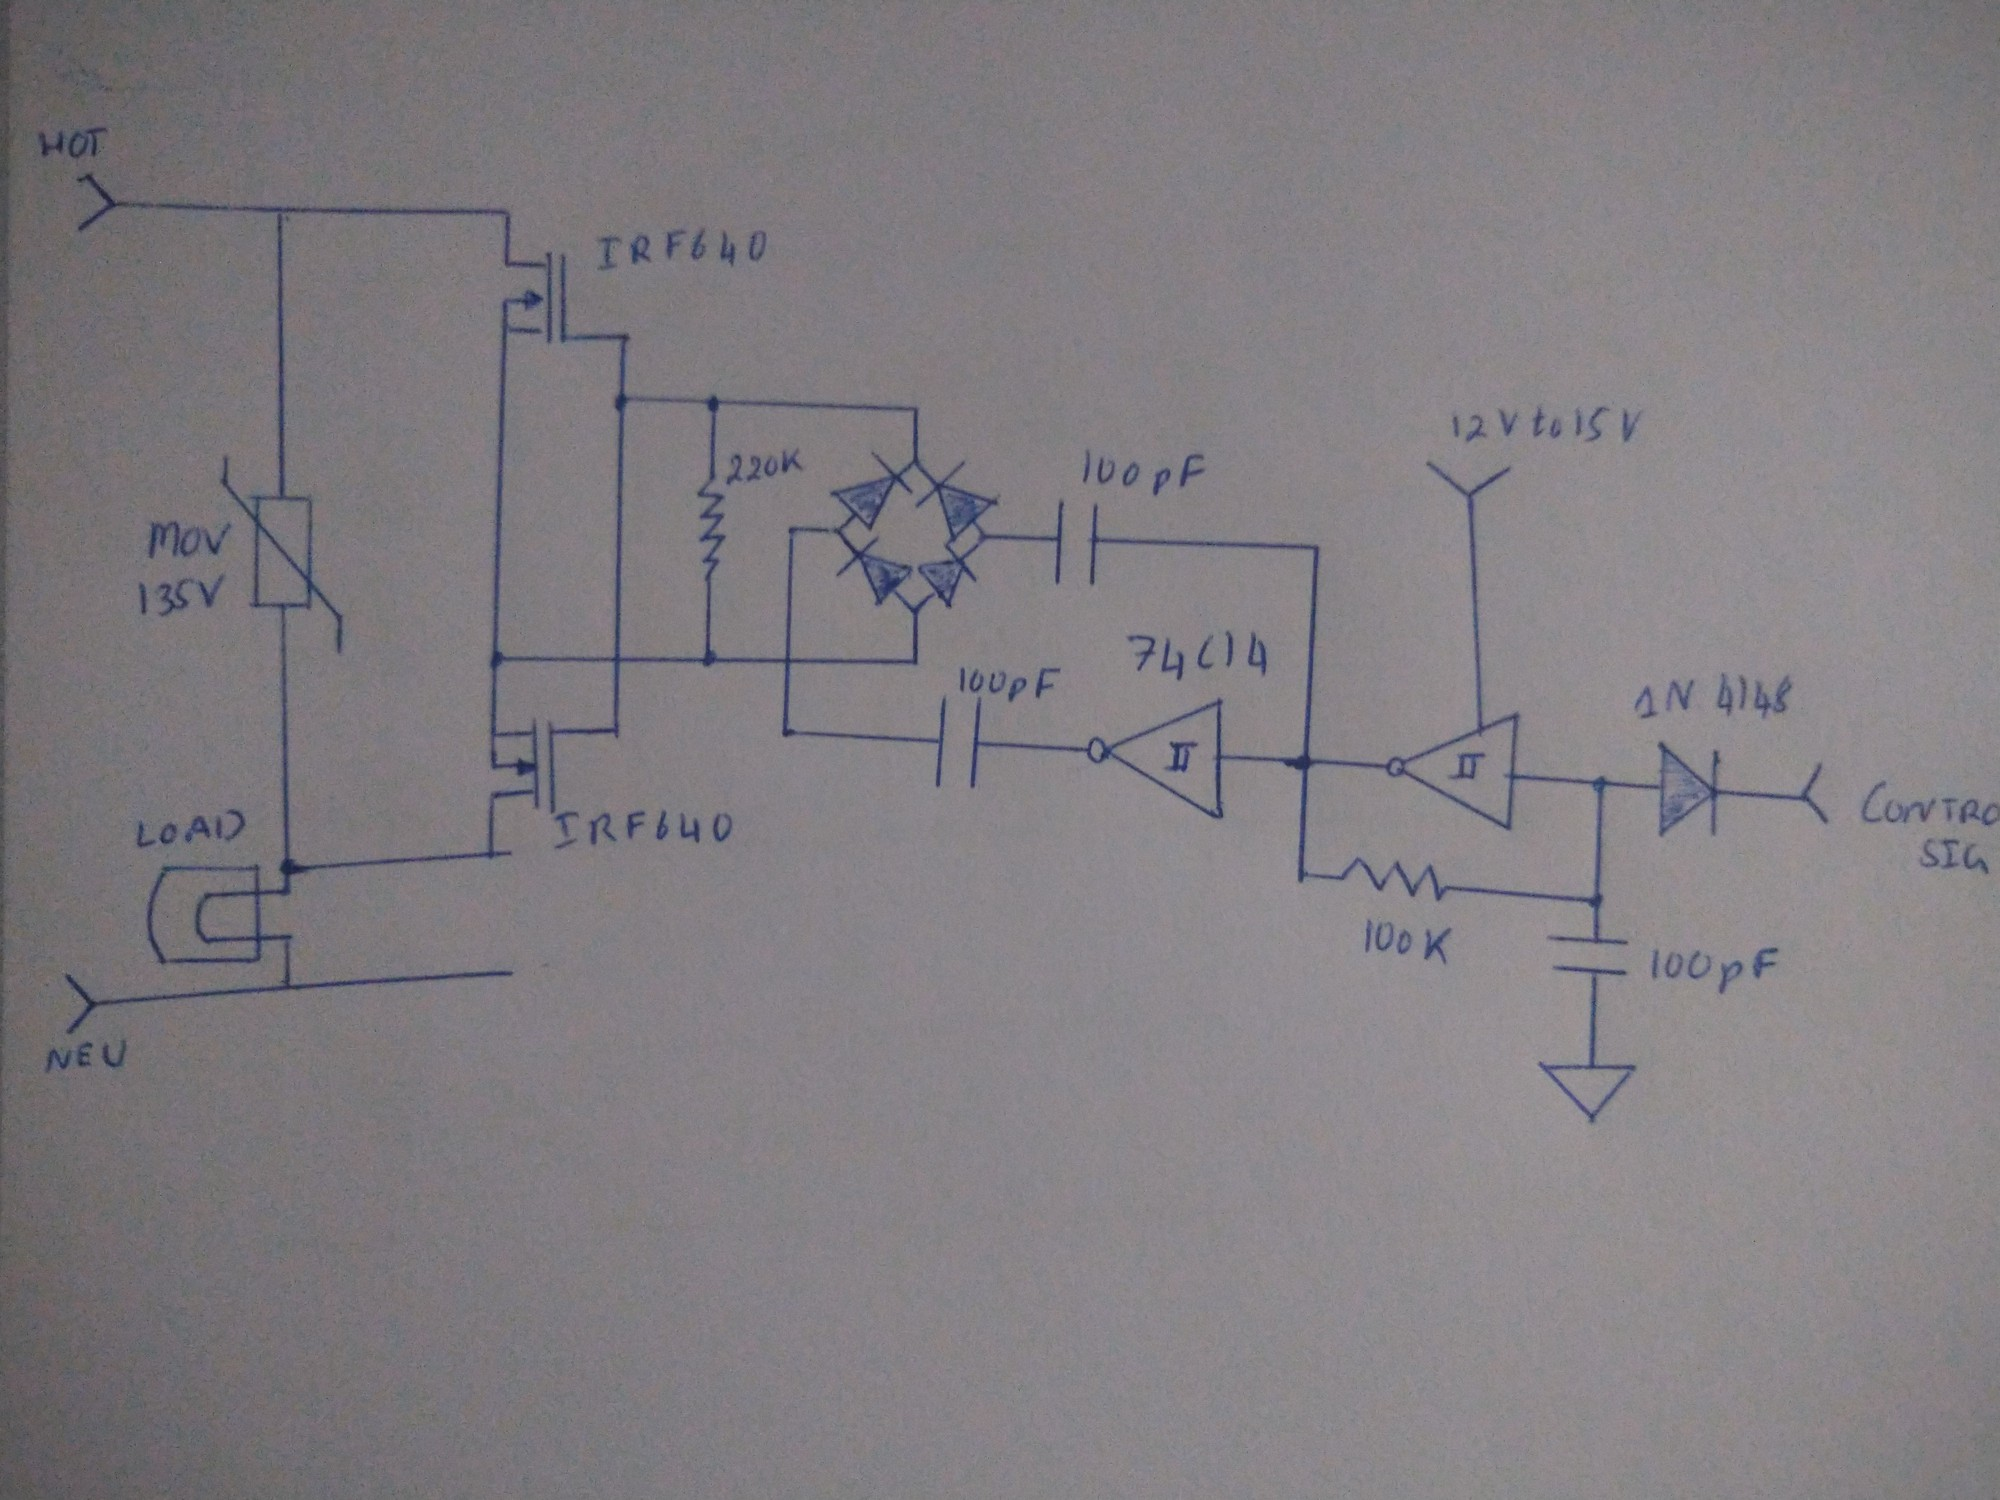capacitor.unpolarized: (921, 693, 994, 793), (1542, 922, 1635, 989), (1043, 495, 1109, 589)
crossover: (773, 646, 806, 671), (605, 649, 631, 671)
diode: (1650, 737, 1731, 845), (831, 452, 912, 529), (917, 462, 995, 537), (835, 537, 912, 603), (918, 545, 976, 608)
gnd: (1531, 1049, 1650, 1130)
junction: (1283, 747, 1321, 777), (693, 641, 724, 673), (1583, 769, 1617, 797), (698, 384, 728, 416), (1581, 889, 1616, 915), (606, 384, 635, 416), (274, 852, 307, 878), (479, 648, 513, 671), (1306, 536, 1335, 562), (274, 974, 302, 1001), (772, 722, 802, 745), (1291, 865, 1318, 890), (906, 449, 932, 474), (479, 840, 506, 865), (491, 202, 520, 225), (899, 600, 931, 621), (783, 515, 805, 542), (605, 718, 628, 742), (906, 397, 928, 422), (266, 200, 291, 222), (906, 649, 931, 670), (277, 926, 299, 949), (973, 529, 995, 550), (276, 881, 299, 900), (614, 328, 635, 348), (828, 522, 847, 540), (506, 964, 518, 980)
lamp: (139, 862, 269, 971)
resistor: (1334, 852, 1450, 911), (691, 470, 729, 581)
schmitt_trigger: (1082, 696, 1236, 826), (1381, 711, 1531, 837)
terminal: (1416, 454, 1524, 503), (1791, 755, 1843, 834), (66, 167, 121, 236), (54, 969, 96, 1037)
text: (587, 216, 778, 277), (1443, 399, 1644, 451), (1118, 624, 1276, 685), (1630, 670, 1794, 722), (1644, 939, 1786, 999), (548, 808, 739, 851), (1858, 774, 2000, 829), (1076, 444, 1208, 499), (124, 805, 249, 854), (1359, 915, 1457, 971), (131, 569, 231, 619), (953, 659, 1063, 704), (139, 515, 235, 562), (723, 440, 809, 488), (39, 1030, 134, 1071), (1913, 834, 1992, 876), (36, 120, 110, 161)
transistor: (491, 247, 580, 353), (482, 715, 561, 816)
varistor: (217, 454, 350, 657)
